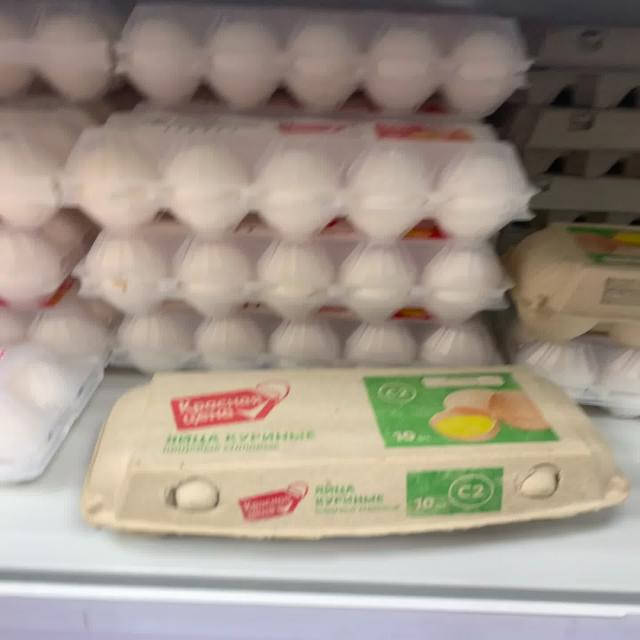egg box: (85, 362, 623, 542), (60, 99, 535, 245)
